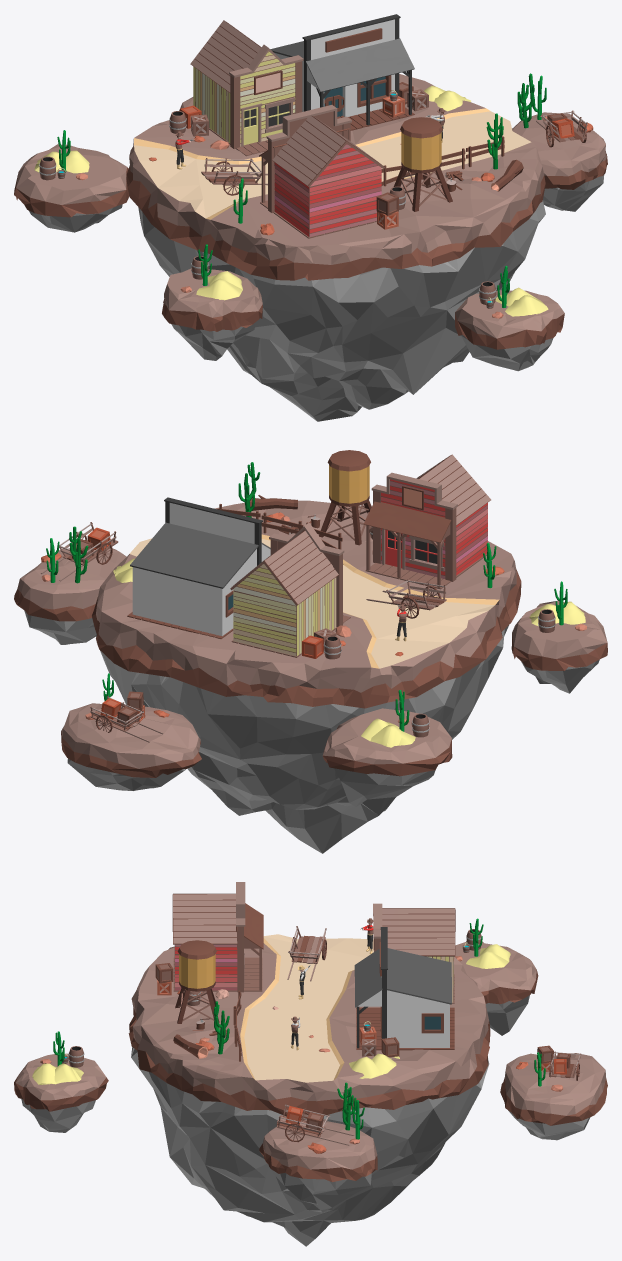
The model's file is land_34.fbx.
3 renders of one model, top to bottom at view 1: azimuth 30°, elevation 25°; view 2: azimuth 150°, elevation 25°; view 3: azimuth 270°, elevation 25°, orthographic. The views are drawn at different scales.
Visible parts, largest first — view 1: land_14.123, land_34.003, land_34.037, land_34.045, land_14.093, land_14.088, land_14.125, land_14.124, land_34.015, land_34.041, land_34.047, land_34.052 (+4 smaller); view 2: land_14.123, land_34.045, land_34.003, land_34.037, land_14.090, land_14.093, land_14.124, land_14.088, land_34.015, land_34.041, land_34.068, land_34.049 (+4 smaller); view 3: land_14.123, land_34.045, land_14.124, land_34.003, land_14.090, land_14.125, land_34.037, land_14.093, land_34.015, land_34.041, land_34.049, land_34.052 (+2 smaller).
Part boxes in pixels (bbox=[...]): land_14.123: bbox=[126, 74, 545, 421]; land_34.003: bbox=[259, 105, 384, 238]; land_34.037: bbox=[190, 20, 303, 156]; land_34.045: bbox=[270, 14, 414, 130]; land_14.093: bbox=[14, 144, 128, 232]; land_14.088: bbox=[162, 268, 262, 360]; land_14.125: bbox=[455, 290, 564, 371]; land_14.124: bbox=[512, 112, 607, 211]; land_34.015: bbox=[393, 117, 452, 211]; land_34.041: bbox=[201, 158, 267, 195]; land_34.047: bbox=[196, 271, 242, 300]; land_34.052: bbox=[495, 287, 548, 316]; land_14.123: bbox=[92, 500, 521, 853]; land_34.045: bbox=[127, 497, 270, 638]; land_34.003: bbox=[364, 454, 490, 589]; land_34.037: bbox=[230, 522, 350, 657]; land_14.090: bbox=[61, 703, 201, 790]; land_14.093: bbox=[322, 708, 452, 806]; land_14.124: bbox=[14, 548, 126, 644]; land_14.088: bbox=[511, 600, 607, 693]; land_34.015: bbox=[319, 450, 371, 545]; land_34.041: bbox=[366, 579, 446, 618]; land_34.068: bbox=[361, 718, 415, 747]; land_34.049: bbox=[41, 522, 118, 581]; land_14.123: bbox=[128, 934, 490, 1246]; land_34.045: bbox=[354, 927, 454, 1050]; land_14.124: bbox=[259, 1120, 377, 1212]; land_34.003: bbox=[172, 882, 263, 992]; land_14.090: bbox=[500, 1053, 607, 1140]; land_14.125: bbox=[14, 1053, 108, 1132]; land_34.037: bbox=[373, 903, 455, 1003]; land_14.093: bbox=[455, 941, 538, 1035]; land_34.015: bbox=[175, 940, 219, 1023]; land_34.041: bbox=[287, 926, 326, 981]; land_34.049: bbox=[276, 1104, 354, 1145]; land_34.052: bbox=[32, 1063, 83, 1084].
Size of the model in its own units: 26.22 by 17.79 by 29.49.
